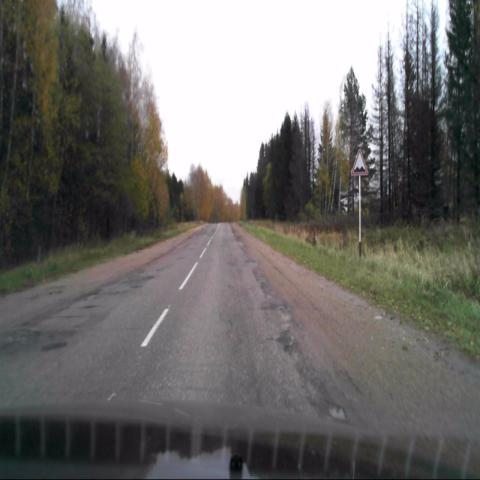1_16: (352, 148, 368, 176)
